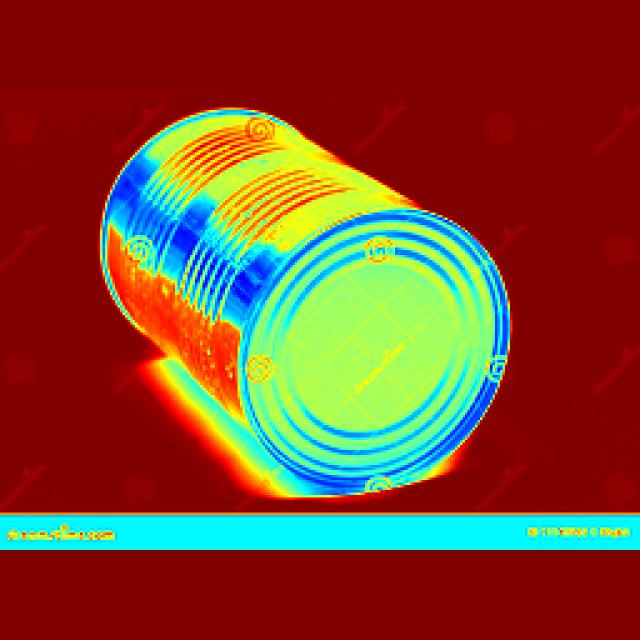Aluminium Food Cans: (89, 104, 509, 482)
